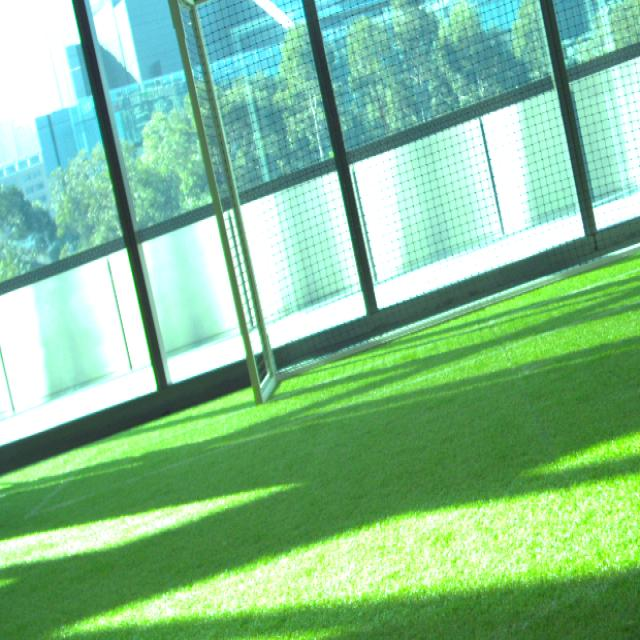goalpost: (165, 0, 268, 404)
